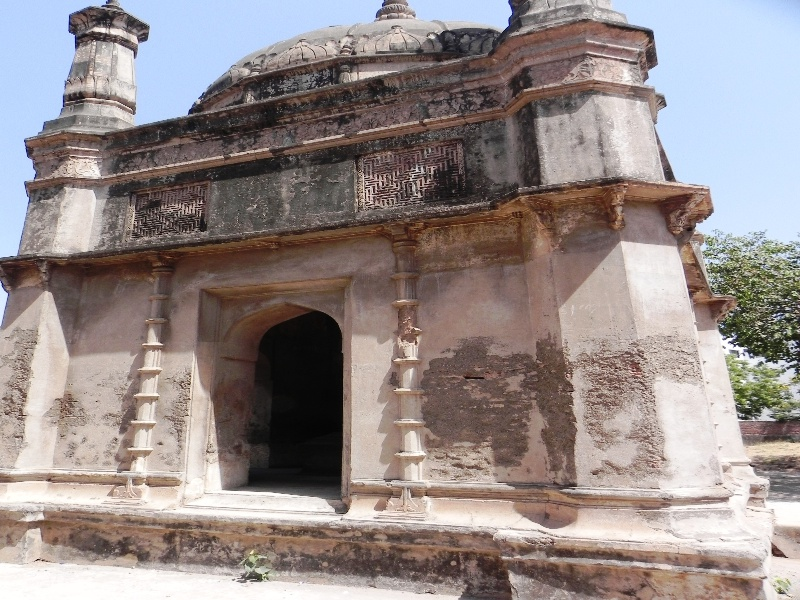Spalling: (533, 323, 669, 483), (422, 329, 530, 467), (1, 329, 40, 425), (43, 388, 85, 443), (170, 361, 188, 455)
